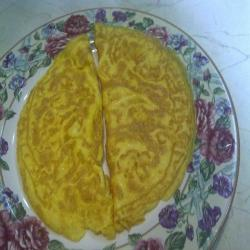omelette: (17, 25, 203, 227)
